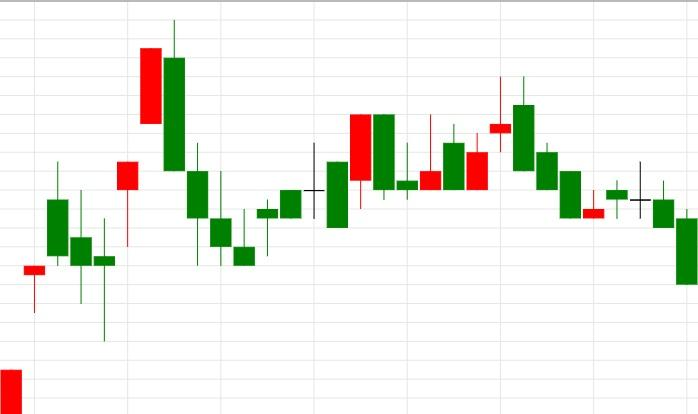inverse_hammer_rise: (164, 19, 255, 266)
